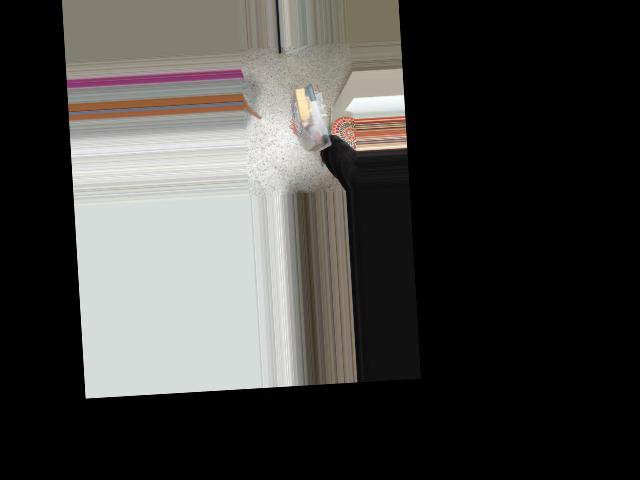cheese: (288, 83, 334, 151)
